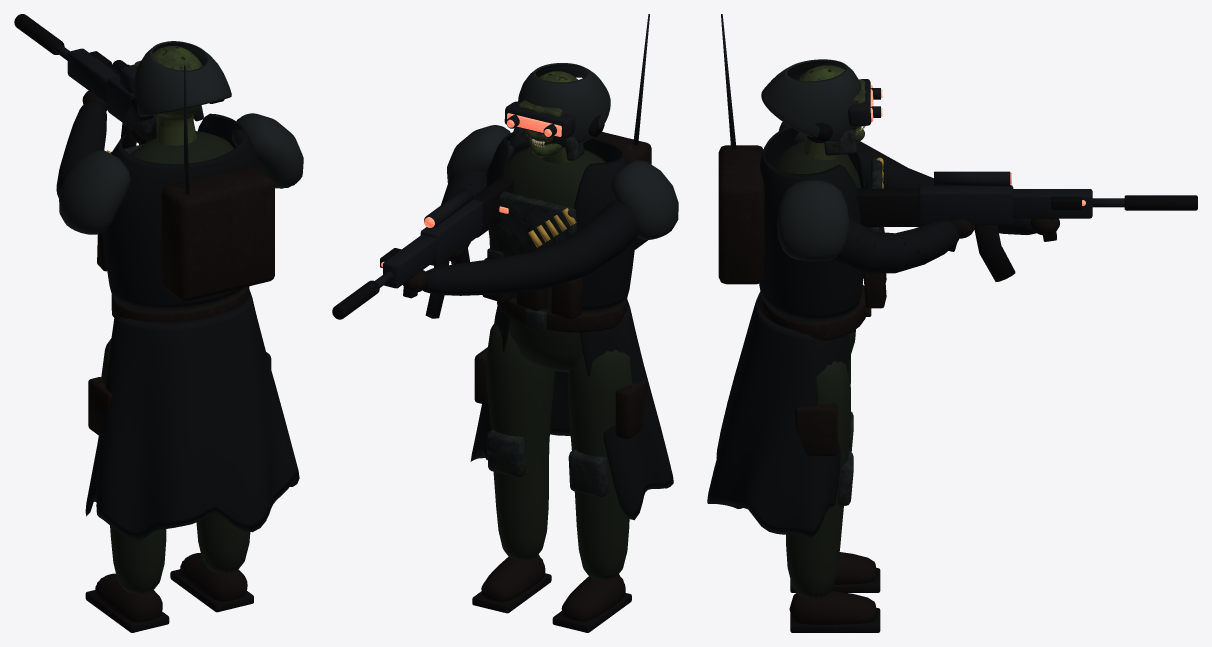
The model's file is boss_gun_zombie.glb.
The picture shows the model from 3 angles, left to right: view 1: azimuth 30°, elevation 25°; view 2: azimuth 150°, elevation 25°; view 3: azimuth 270°, elevation 25°; orthographic projection. The views are drawn at different scales.
Parts seen in each view (by area): view 1: Torso_Geo, Head_Geo, LegL_Geo, LegR_Geo, ArmR_Geo, ArmL_Geo; view 2: Torso_Geo, LegR_Geo, LegL_Geo, ArmL_Geo, ArmR_Geo, Head_Geo; view 3: Torso_Geo, ArmR_Geo, LegR_Geo, Head_Geo, ArmL_Geo, LegL_Geo.
Part boxes in pixels (x1,y1,x2,y2): Torso_Geo: (59, 65, 303, 540); Head_Geo: (120, 41, 231, 145); LegL_Geo: (85, 338, 169, 632); LegR_Geo: (170, 352, 271, 612); ArmR_Geo: (14, 14, 157, 148); ArmL_Geo: (56, 90, 107, 197); Torso_Geo: (447, 14, 678, 520); LegR_Geo: (472, 322, 554, 613); LegL_Geo: (552, 349, 647, 632); ArmL_Geo: (403, 200, 638, 295); ArmR_Geo: (332, 171, 513, 319); Head_Geo: (504, 63, 610, 163); Torso_Geo: (707, 14, 886, 537); ArmR_Geo: (832, 171, 1197, 281); LegR_Geo: (786, 361, 880, 632); Head_Geo: (761, 59, 882, 160); ArmL_Geo: (856, 141, 1059, 235); LegL_Geo: (790, 355, 880, 592).
Size of the model in its own units: 0.8477 by 2.07 by 1.61.
12 materials, 7 textured.
